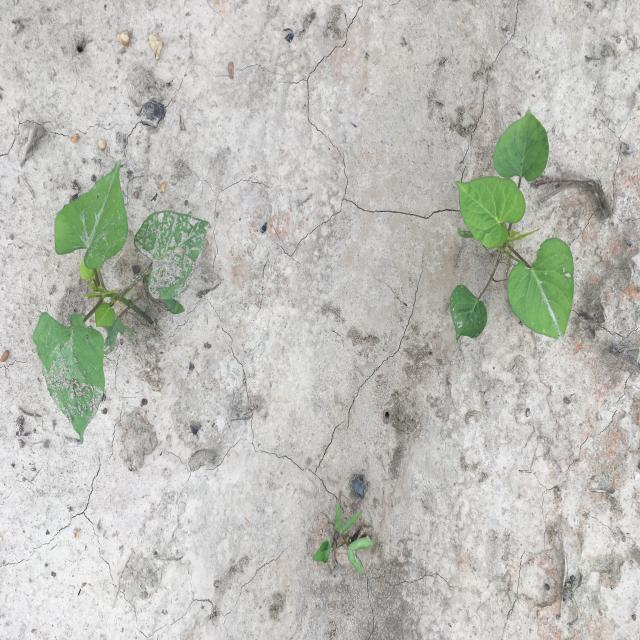MorningGlory: (32, 158, 211, 444), (449, 106, 574, 342), (313, 502, 375, 574)
